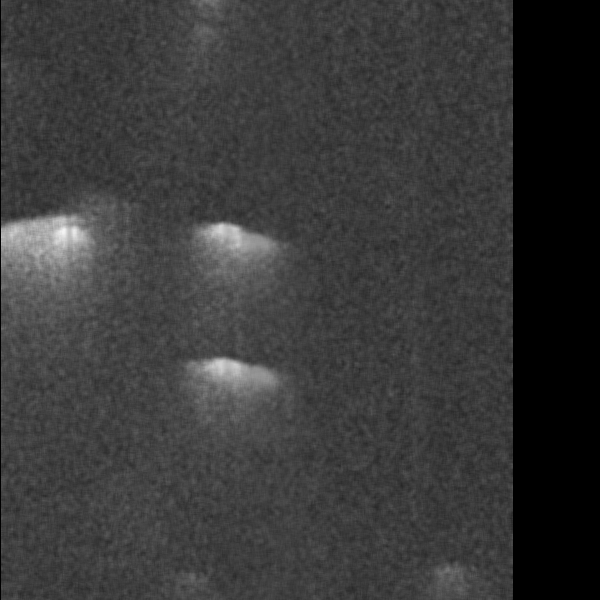spark: (415, 577, 493, 600), (393, 408, 431, 453), (135, 423, 182, 455), (144, 206, 175, 253), (321, 581, 355, 600)
